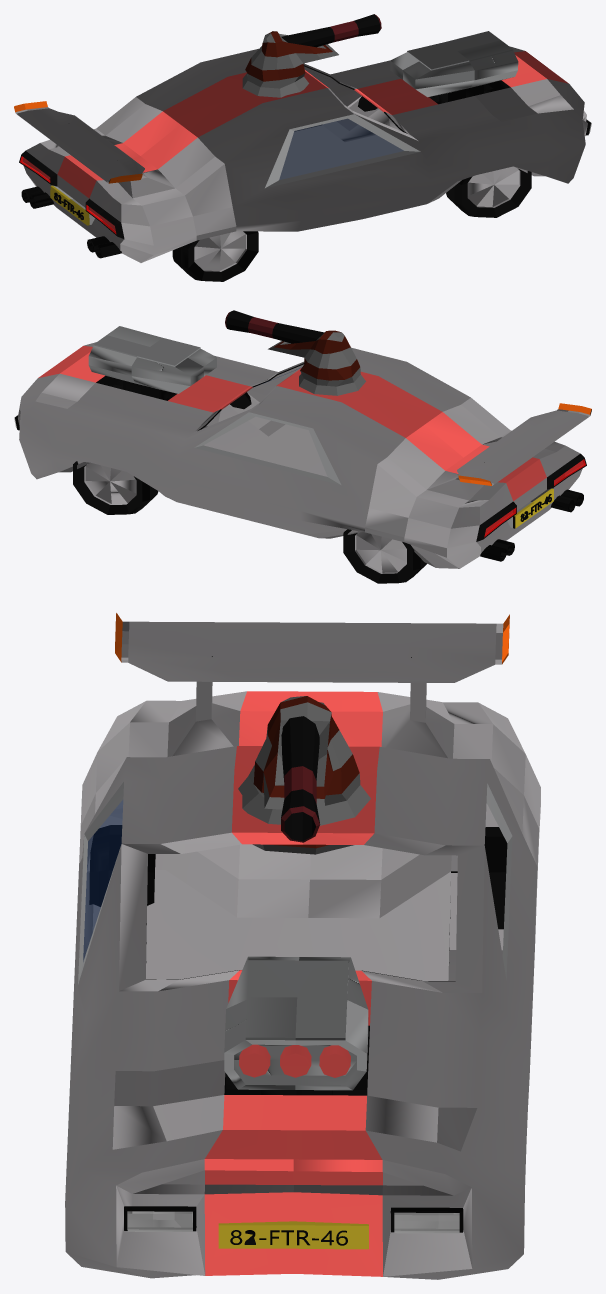
The model's file is Car gun.fbx.
3 views of the same model, one above another, from view 1: azimuth 30°, elevation 25°; view 2: azimuth 150°, elevation 25°; view 3: azimuth 270°, elevation 25° (orthographic). The views are drawn at different scales.
Parts seen in each view (by area): view 1: car; view 2: car; view 3: car.
Boxes of the visible parts, x1,y1,x2,y2 form: car: (14, 14, 591, 281); car: (14, 310, 591, 583); car: (65, 613, 540, 1279).
Bounding box in the file's own units: 3643 × 1337 × 1543.
